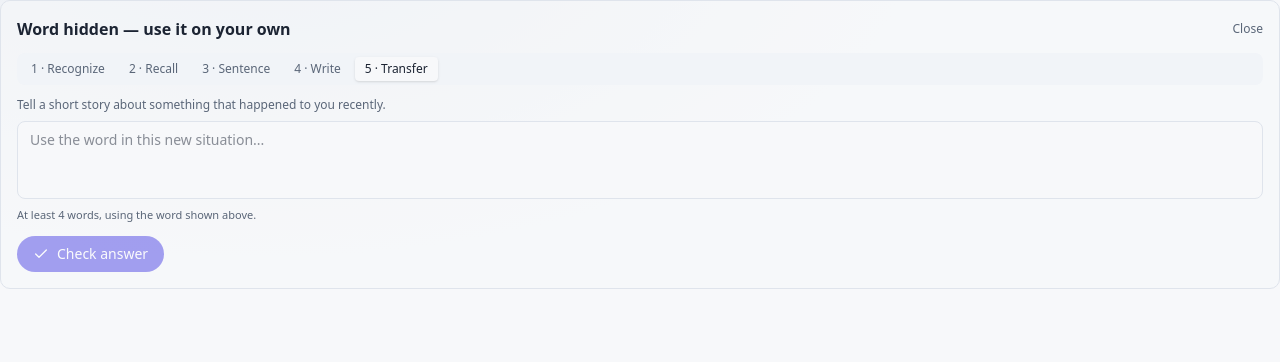
Test: WordDrill paso Transfer (V3.40) › un uso semánticamente incorrecto avisa con firmeza y no cuenta como transferencia
In the text box named "Your answer": (640, 160) [17,121,1263,199], type "I river the water every morning before work."
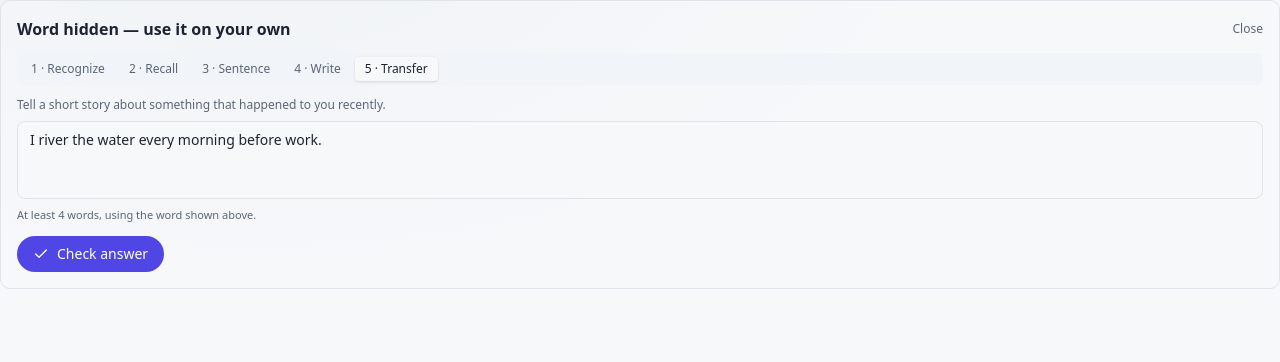
Click the button "Check answer": (91, 254) [17,236,164,272]
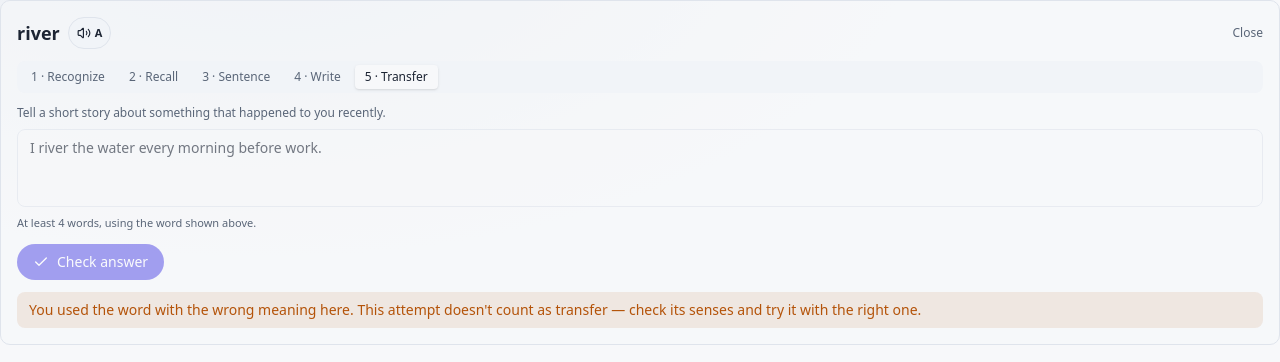
Expected: the text "wrong meaning here" is shown, [29,300,921,318]
Expected: the text "river" is shown, [17,19,60,47]
